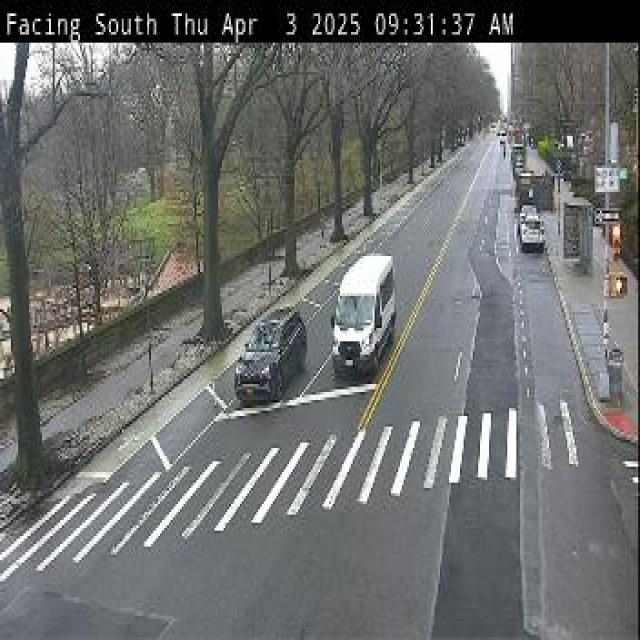open parking: (509, 204, 560, 333)
